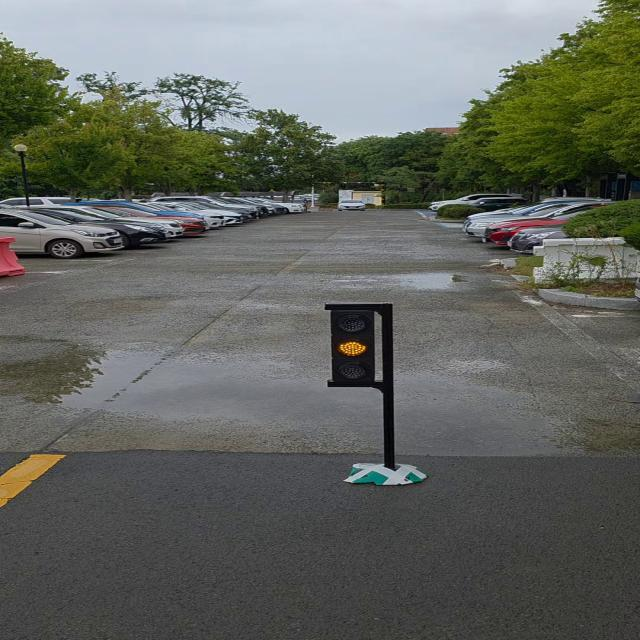yellow: (329, 302, 384, 391)
